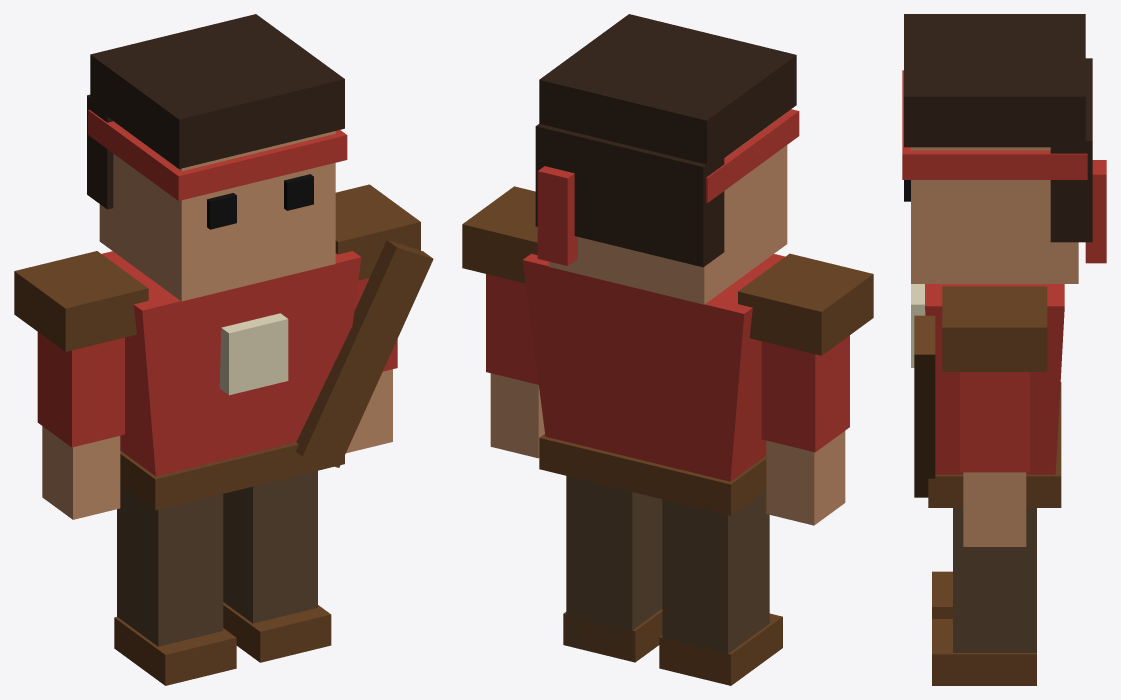
Rendered from Warrior.obj.
3 renders of one model, left to right at view 1: azimuth 30°, elevation 25°; view 2: azimuth 150°, elevation 25°; view 3: azimuth 270°, elevation 25°, orthographic. The views are drawn at different scales.
Visible parts, largest first — view 1: Head, Torso, ArmL, LegL, LegR, ArmR; view 2: Head, Torso, ArmL, LegL, LegR, ArmR; view 3: Head, ArmR, Torso, LegR, LegL.
Boxes of the visible parts, left/top/right/bottom form: Head: left=87, top=14, right=347, bottom=301; Torso: left=102, top=240, right=433, bottom=510; ArmL: left=14, top=251, right=148, bottom=519; LegL: left=114, top=485, right=236, bottom=685; LegR: left=223, top=470, right=331, bottom=662; ArmR: left=335, top=184, right=420, bottom=453; Head: left=535, top=14, right=799, bottom=304; Torso: left=522, top=253, right=784, bottom=515; ArmL: left=738, top=253, right=873, bottom=525; LegL: left=659, top=490, right=782, bottom=685; LegR: left=563, top=476, right=662, bottom=662; ArmR: left=462, top=186, right=544, bottom=458; Head: left=902, top=14, right=1106, bottom=283; ArmR: left=942, top=286, right=1047, bottom=546; Torso: left=911, top=284, right=1064, bottom=507; LegR: left=932, top=508, right=1036, bottom=685; LegL: left=932, top=571, right=952, bottom=618.
Size of the model in its own units: 0.6 by 0.93 by 0.2925.
